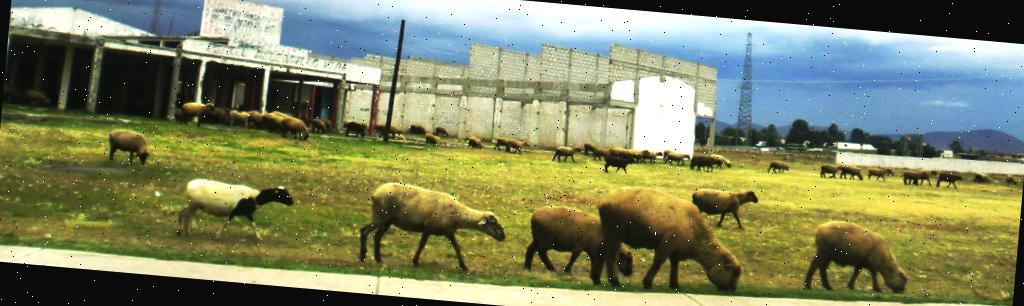Sheep: (590, 178, 752, 298), (348, 180, 514, 280), (795, 199, 924, 306), (522, 199, 647, 289), (176, 168, 300, 250), (688, 182, 764, 236), (102, 122, 157, 172), (180, 98, 216, 128), (278, 115, 312, 143), (604, 152, 638, 176), (551, 144, 583, 164), (708, 152, 734, 172), (504, 138, 532, 156), (664, 150, 692, 167), (494, 136, 519, 154), (639, 148, 664, 166), (432, 124, 451, 138)
